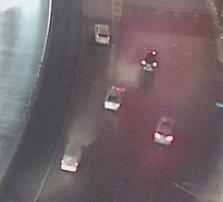car: (59, 139, 83, 173), (152, 116, 177, 145), (104, 83, 124, 110), (139, 48, 159, 72), (93, 22, 111, 44)
